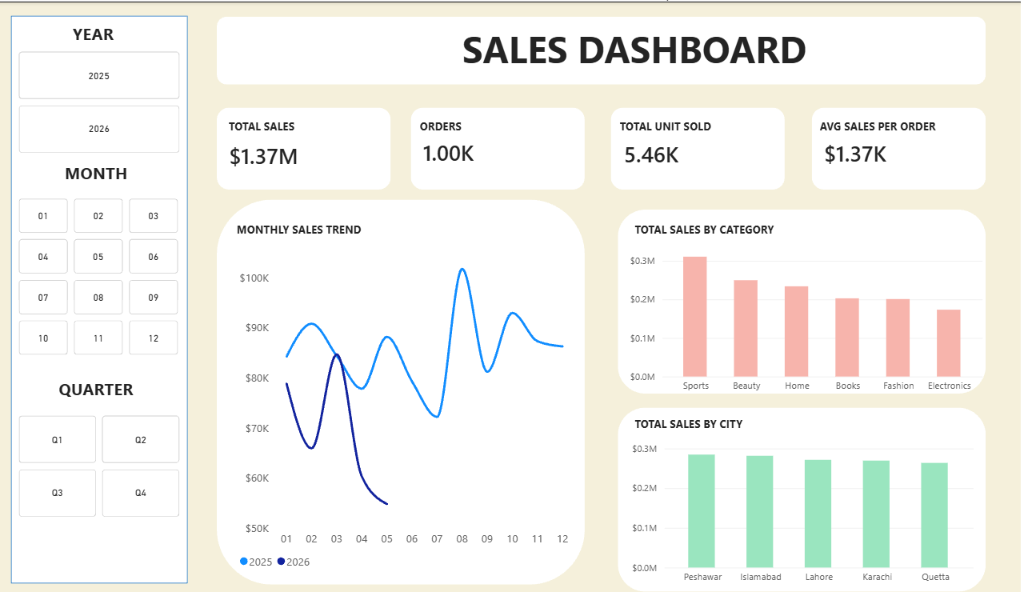

What the dashboard file says about the page in this screenshot:
{"tool":"powerbi","page":{"name":"Page 1","canvas":[1340,780],"ordinal":0},"visuals":[{"type":"shape","box":[287.5,19.6,1005.1,88.9],"z":0},{"type":"shape","box":[287.3,138.8,227.4,107.2],"z":1000},{"type":"shape","box":[540.8,138.8,227.4,107.2],"z":2000},{"type":"shape","box":[802.2,138.8,227.4,107.2],"z":3000},{"type":"shape","box":[1064.9,138.8,227.4,107.2],"z":4000},{"type":"shape","box":[287.5,258.8,481,503.2],"z":5000},{"type":"shape","box":[18.3,18.6,231.3,742.4],"z":6000},{"type":"textbox","box":[513.6,28.8,639.1,70.6],"z":7000},{"type":"textbox","box":[303.2,152.9,158.1,39.2],"z":8000},{"type":"textbox","box":[552.9,152.9,171.2,37.9],"z":9000},{"type":"textbox","box":[814.2,152.9,129.4,37.9],"z":10000},{"type":"textbox","box":[1075.6,152.9,155.5,37.9],"z":11000},{"type":"cardVisual","fields":{"Data":["product_sales_dataset.total_sales"]},"box":[287.5,172.5,214.3,56.2],"z":12000},{"type":"cardVisual","fields":{"Data":["product_sales_dataset.orders"]},"box":[541.1,172.5,160.8,47.1],"z":13000},{"type":"cardVisual","fields":{"Data":["product_sales_dataset.units_sold"]},"box":[803.8,169.9,115,56.2],"z":14000},{"type":"cardVisual","fields":{"Data":["product_sales_dataset.avg_sales_per_order"]},"box":[1065.2,158.1,128.1,79.7],"z":15000},{"type":"advancedSlicerVisual","fields":{"Values":["product_sales_dataset.order_year"]},"box":[28.8,65.6,210.4,132],"z":16000},{"type":"textbox","box":[99.3,27.7,74.5,37.9],"z":17000},{"type":"textbox","box":[88.9,209.4,113.7,37.9],"z":18000},{"type":"textbox","box":[81,491.7,113.7,37.9],"z":19000},{"type":"lineChart","fields":{"Category":["product_sales_dataset.order_month"],"Series":["product_sales_dataset.order_year"],"Y":["product_sales_dataset.total_sales"]},"box":[300.6,304.5,467.9,457.4],"z":20000},{"type":"advancedSlicerVisual","fields":{"Values":["product_sales_dataset.order_month"]},"box":[28.8,257.7,210.4,206.5],"z":22000},{"type":"shape","box":[811.6,271.9,481,240.5],"z":22001},{"type":"shape","box":[811.6,530.6,481,240.5],"z":22002},{"type":"clusteredColumnChart","fields":{"Category":["product_sales_dataset.Category"],"Y":["product_sales_dataset.total_sales"]},"box":[811.6,290.1,492.7,240.5],"z":22003},{"type":"textbox","box":[833.9,287.5,186.9,32.7],"z":22004},{"type":"columnChart","fields":{"Category":["product_sales_dataset.Customer_City"],"Y":["product_sales_dataset.total_sales"]},"box":[814.2,560.7,478.4,219.6],"z":22005},{"type":"textbox","box":[833.9,542.4,154.2,37.9],"z":22006},{"type":"textbox","box":[313.7,287.5,175.1,32.7],"z":22007},{"type":"advancedSlicerVisual","fields":{"Values":["product_sales_dataset.Q"]},"box":[28.8,541.4,210.4,132],"z":22008}]}

Visuals, with their boxes in screenshot pixels (x1, y1, x2, y2), scaled from the page's 1340x780 canvas onto the 1021x592 screenshot:
shape: 219/15/985/82
shape: 219/105/392/187
shape: 412/105/585/187
shape: 611/105/784/187
shape: 811/105/985/187
shape: 219/196/586/578
shape: 14/14/190/578
textbox: 391/22/878/75
textbox: 231/116/351/146
textbox: 421/116/552/145
textbox: 620/116/719/145
textbox: 820/116/938/145
cardVisual - product_sales_dataset.total_sales: 219/131/382/174
cardVisual - product_sales_dataset.orders: 412/131/535/167
cardVisual - product_sales_dataset.units_sold: 612/129/700/172
cardVisual - product_sales_dataset.avg_sales_per_order: 812/120/909/180
advancedSlicerVisual - product_sales_dataset.order_year: 22/50/182/150
textbox: 76/21/132/50
textbox: 68/159/154/188
textbox: 62/373/148/402
lineChart - product_sales_dataset.order_month x product_sales_dataset.order_year: 229/231/586/578
advancedSlicerVisual - product_sales_dataset.order_month: 22/196/182/352
shape: 618/206/985/389
shape: 618/403/985/585
clusteredColumnChart - product_sales_dataset.Category x product_sales_dataset.total_sales: 618/220/994/403
textbox: 635/218/778/243
columnChart - product_sales_dataset.Customer_City x product_sales_dataset.total_sales: 620/426/985/591
textbox: 635/412/753/440
textbox: 239/218/372/243
advancedSlicerVisual - product_sales_dataset.Q: 22/411/182/511
